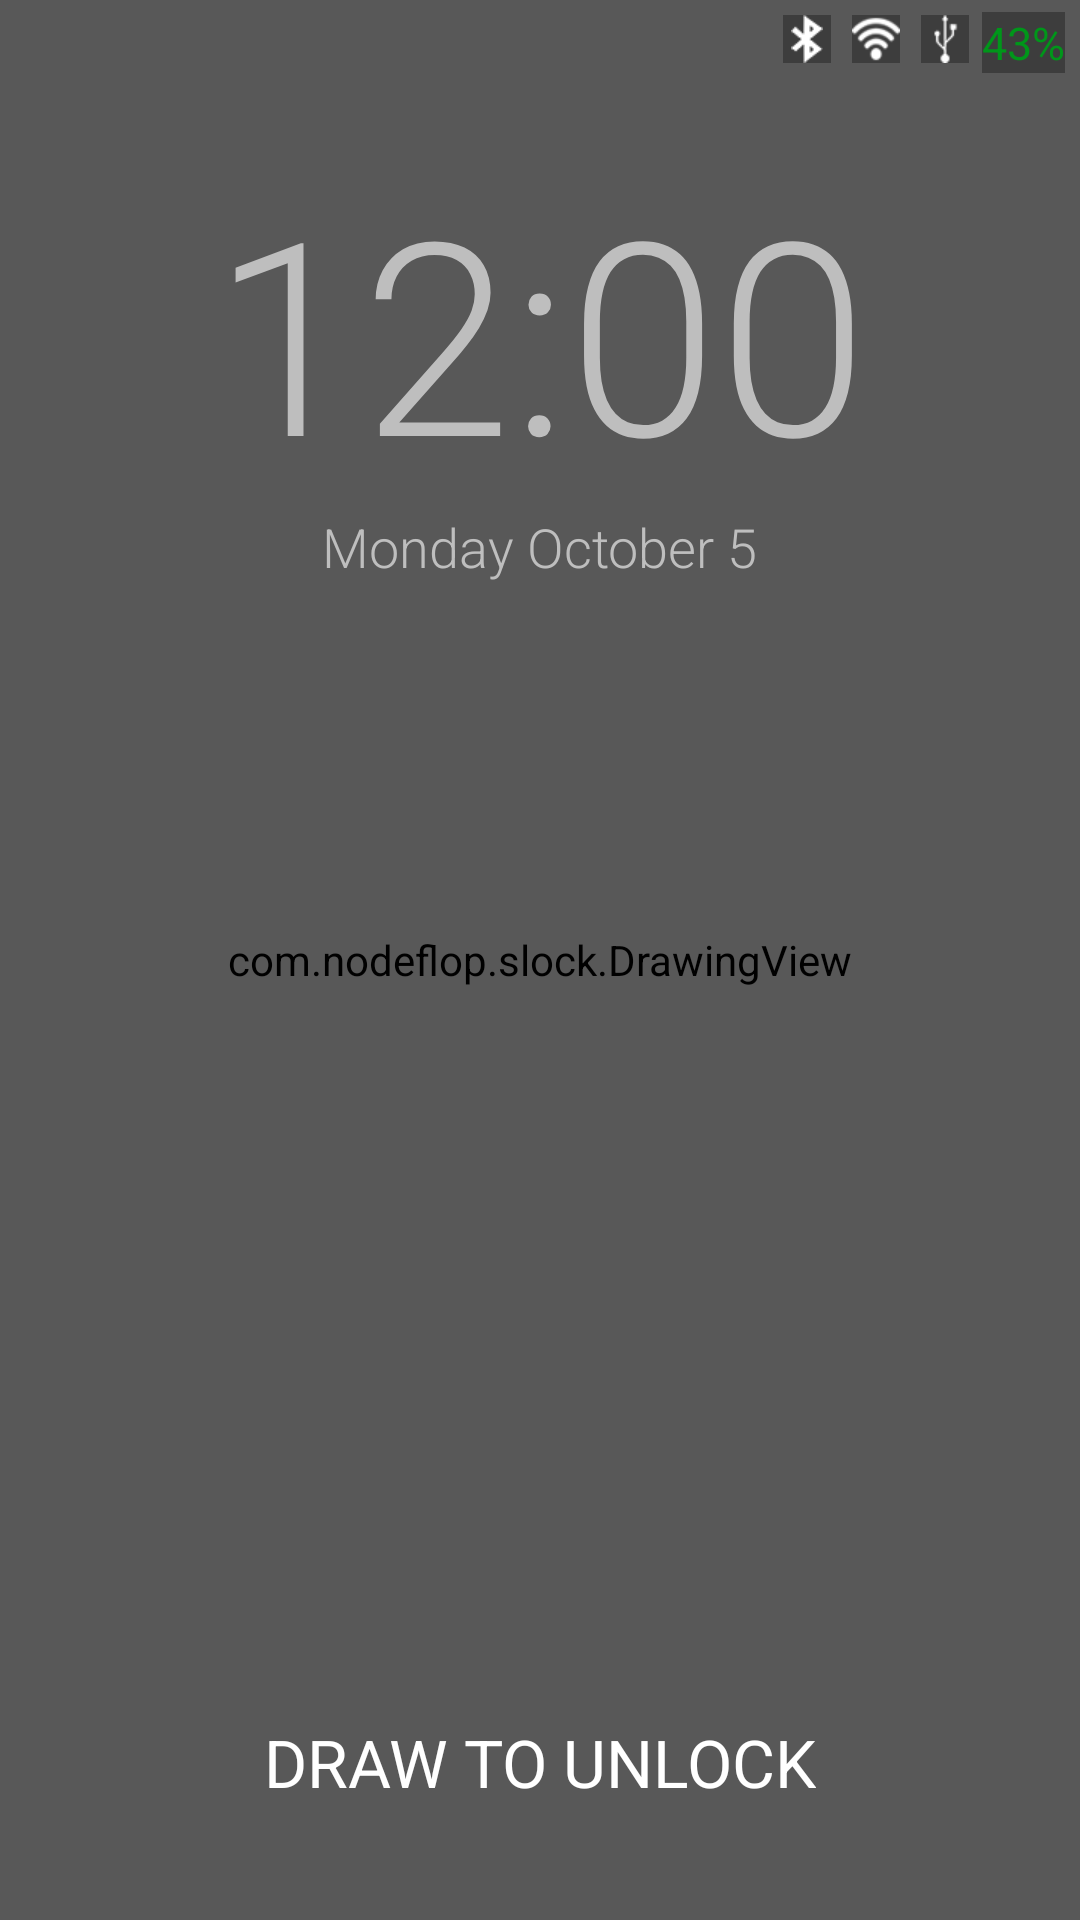

Locate icon controls on the screen. Image size 1080x1920, boxes as (x1, y1, x2, y2).
wifi: (852, 15, 900, 63)
